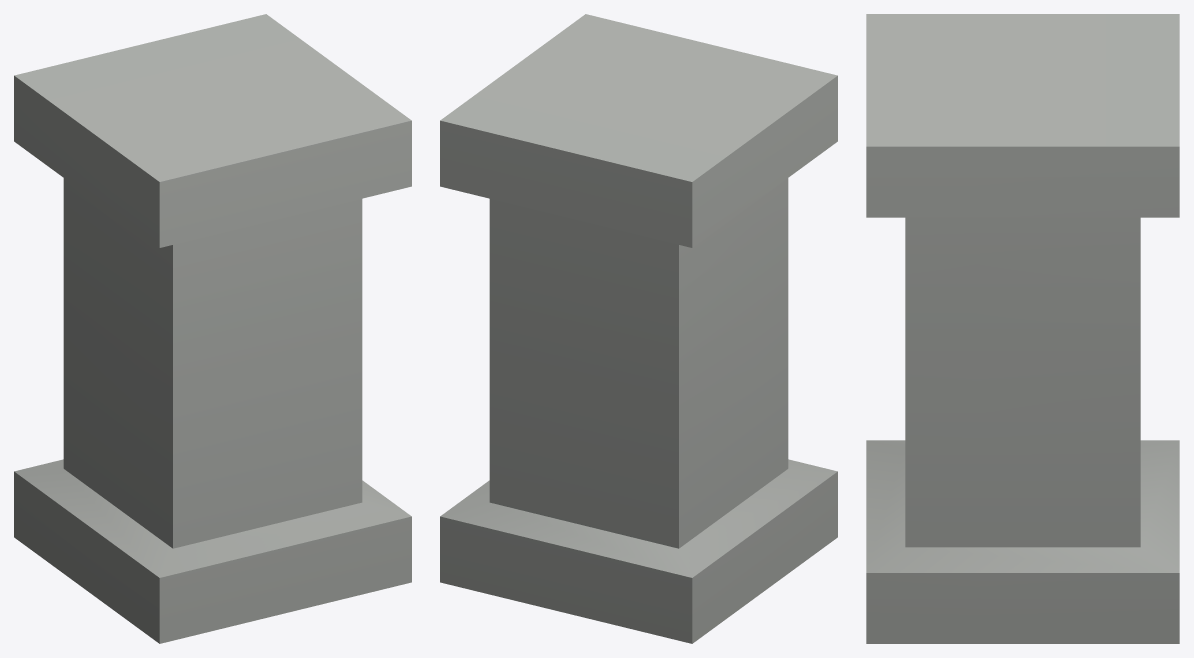
File: Pillar_1x1.fbx
3 views of the same model, side by side, from view 1: azimuth 30°, elevation 25°; view 2: azimuth 150°, elevation 25°; view 3: azimuth 270°, elevation 25° (orthographic). The views are drawn at different scales.
Parts seen in each view (by area): view 1: Pillar_1x1; view 2: Pillar_1x1; view 3: Pillar_1x1.
Part boxes in pixels (left/top/right/bottom): Pillar_1x1: left=14, top=14, right=411, bottom=643; Pillar_1x1: left=440, top=14, right=837, bottom=643; Pillar_1x1: left=866, top=14, right=1179, bottom=643.
Bounding box in the file's own units: 50 × 87.5 × 50.
